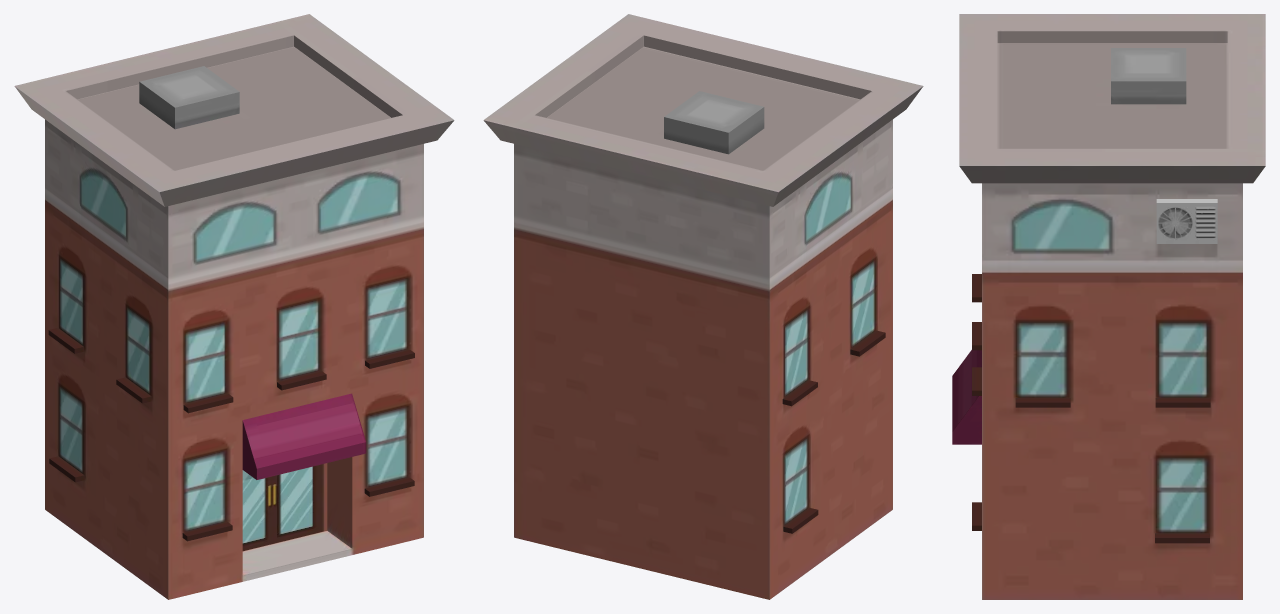
The model's file is city_building_04.glb.
The picture shows the model from 3 angles, left to right: view 1: azimuth 30°, elevation 25°; view 2: azimuth 150°, elevation 25°; view 3: azimuth 270°, elevation 25°; orthographic projection. The views are drawn at different scales.
Parts seen in each view (by area): view 1: city:polySurface332; view 2: city:polySurface332; view 3: city:polySurface332.
Part boxes in pixels (x1,y1,x2,y2): city:polySurface332: [14, 14, 454, 599]; city:polySurface332: [483, 14, 923, 599]; city:polySurface332: [952, 14, 1265, 599].
Size of the model in its own units: 6.16 by 8.6 by 5.37.
Materials: 1 (1 with a texture image).
